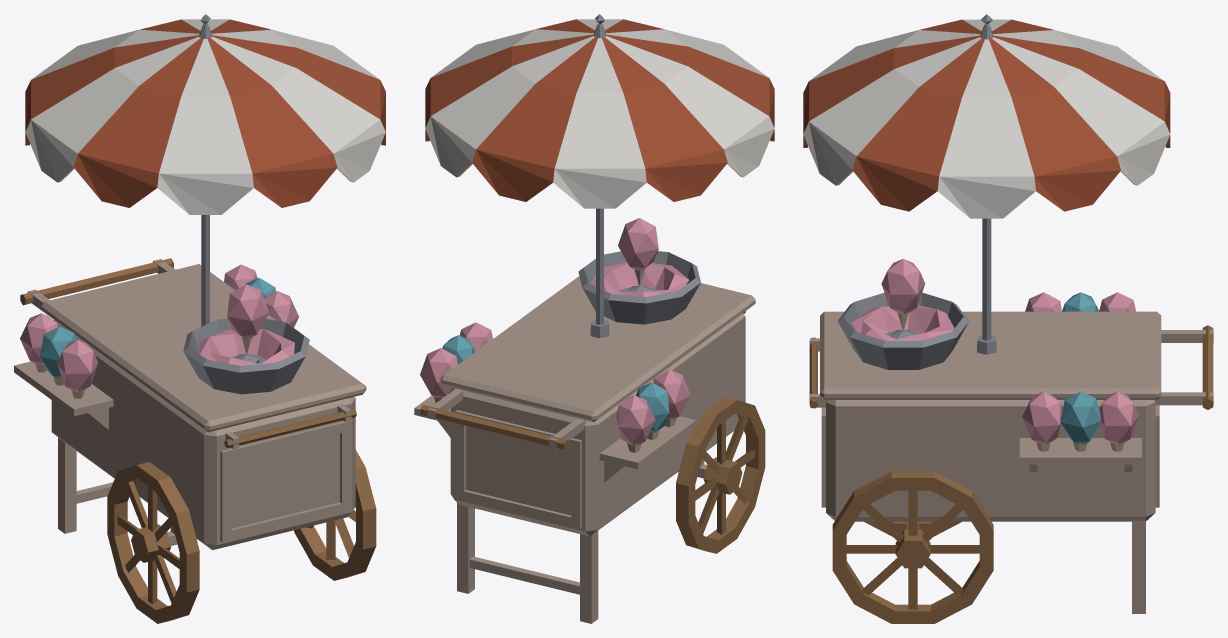
File: cotton-candy-cart-b6ab7d.glb
3 views of the same model, side by side, from view 1: azimuth 30°, elevation 25°; view 2: azimuth 150°, elevation 25°; view 3: azimuth 270°, elevation 25° (orthographic). The views are drawn at different scales.
Parts seen in each view (by area): view 1: cart-body, parasol-mesh, wheel-l-mesh, wheel-r-mesh, fresh-floss-mesh; view 2: cart-body, parasol-mesh, wheel-l-mesh, fresh-floss-mesh; view 3: cart-body, parasol-mesh, wheel-r-mesh, fresh-floss-mesh.
Boxes of the visible parts, bbox=[...] form: cart-body: bbox=[14, 258, 366, 549]; parasol-mesh: bbox=[25, 14, 385, 326]; wheel-l-mesh: bbox=[107, 462, 199, 623]; wheel-r-mesh: bbox=[294, 450, 376, 580]; fresh-floss-mesh: bbox=[227, 284, 268, 354]; cart-body: bbox=[414, 251, 755, 623]; parasol-mesh: bbox=[425, 14, 774, 324]; wheel-l-mesh: bbox=[676, 397, 765, 553]; fresh-floss-mesh: bbox=[618, 218, 658, 286]; cart-body: bbox=[809, 292, 1213, 613]; parasol-mesh: bbox=[803, 14, 1170, 340]; wheel-r-mesh: bbox=[832, 471, 993, 623]; fresh-floss-mesh: bbox=[881, 259, 925, 330].
Size of the model in its own units: 1.89 by 3.22 by 2.12.
